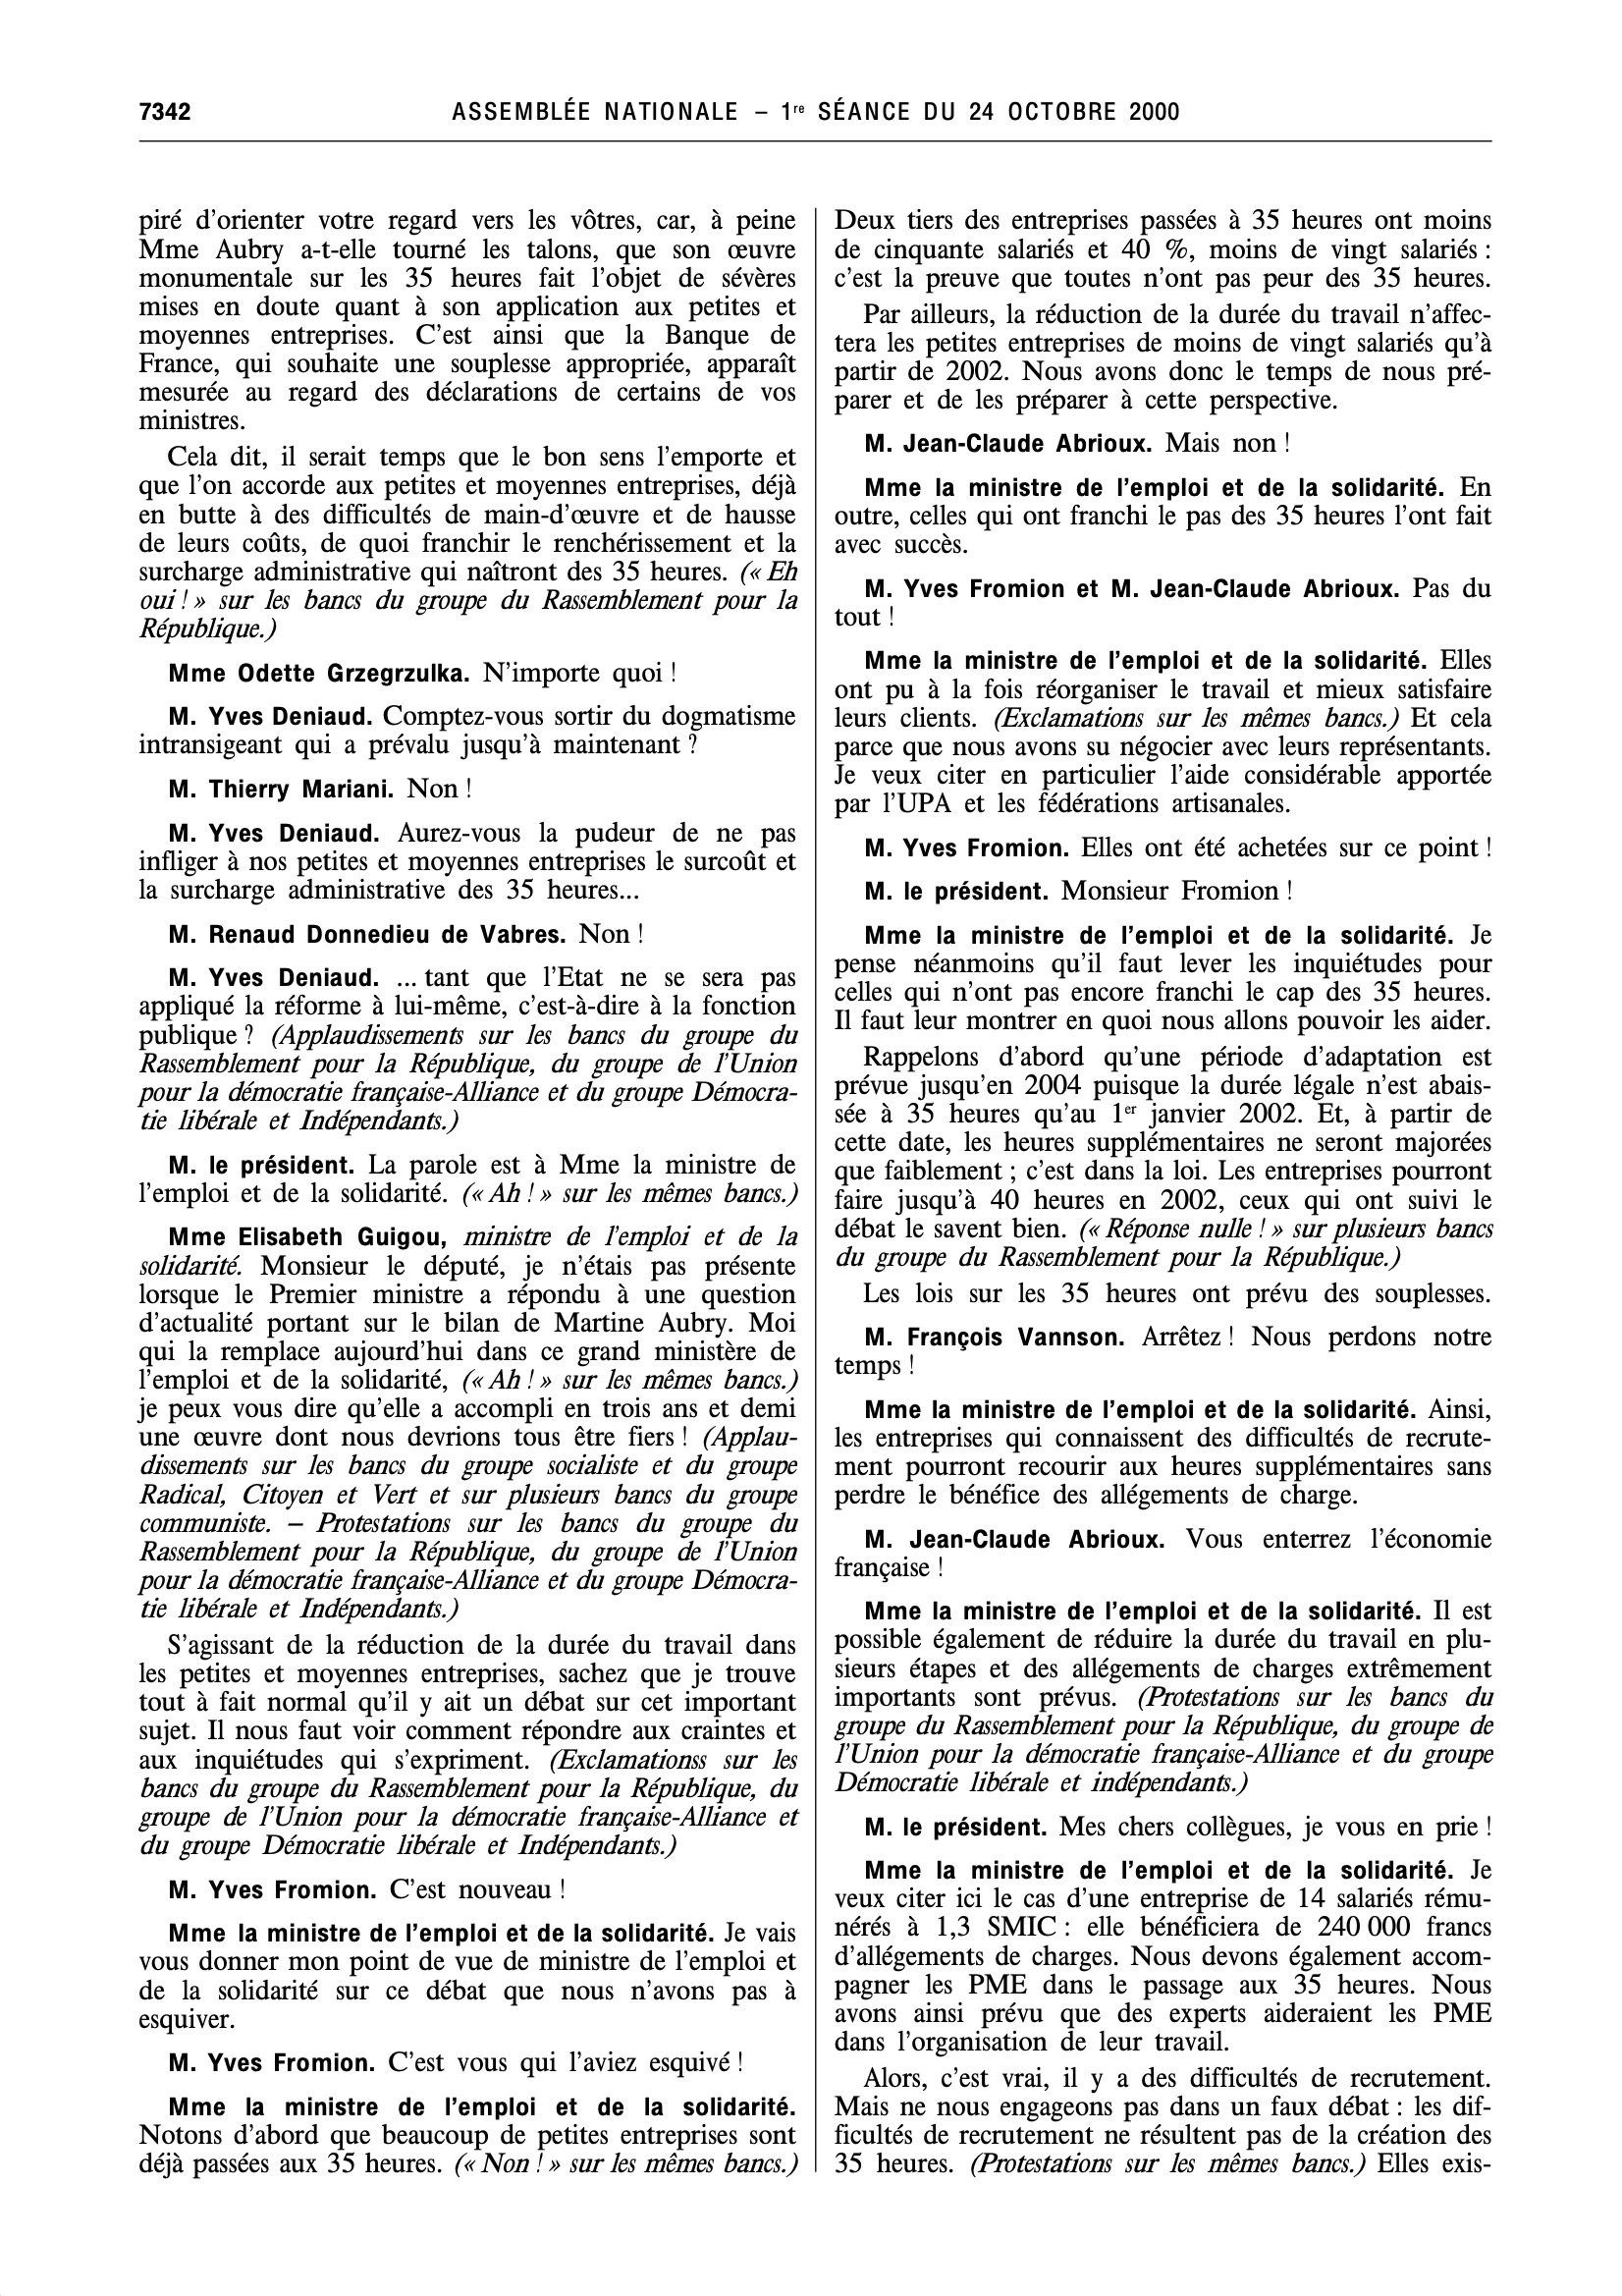MainZone-Continued: (130, 198, 806, 441), (827, 200, 1497, 295)
MainZone-P: (130, 1216, 806, 1624), (133, 1629, 804, 1862), (827, 1043, 1499, 1274), (130, 441, 804, 646), (829, 1854, 1503, 2057), (829, 1594, 1501, 1797), (827, 642, 1503, 822), (132, 960, 804, 1139), (829, 2059, 1501, 2185), (829, 1392, 1499, 1515), (830, 298, 1497, 420), (132, 1917, 804, 2034), (829, 918, 1501, 1034), (130, 2089, 802, 2187), (130, 814, 799, 911), (827, 470, 1497, 565), (128, 697, 799, 769), (829, 1520, 1499, 1589), (825, 570, 1499, 637), (130, 1146, 802, 1213), (827, 1318, 1496, 1385), (130, 651, 800, 695), (841, 827, 1501, 871), (128, 2040, 774, 2084), (830, 1273, 1497, 1315), (837, 423, 1499, 462), (137, 1869, 804, 1906), (846, 1806, 1501, 1843), (140, 915, 660, 955), (860, 874, 1297, 906), (142, 771, 481, 811)
StampZone: (442, 84, 1192, 139)
TitlePageZone: (133, 91, 200, 135)
